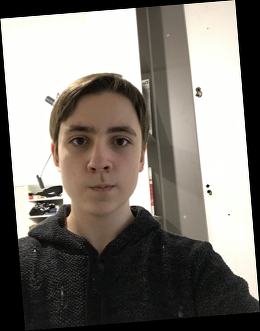without_mask: (59, 116, 143, 217)
